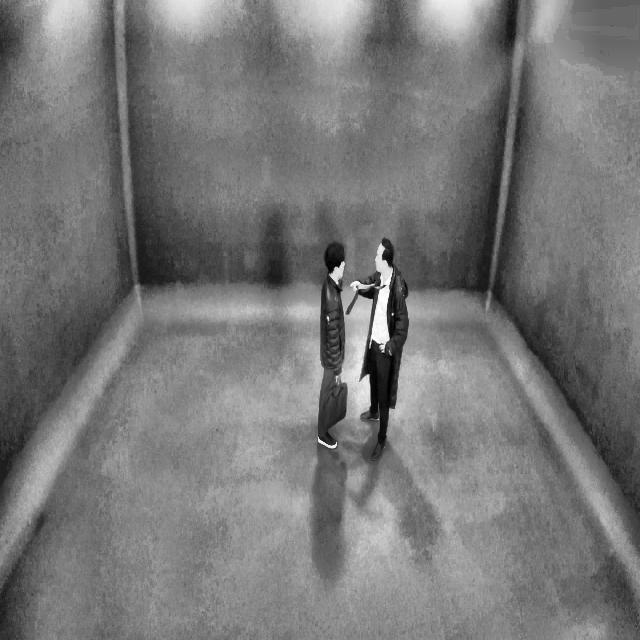assult: (317, 233, 404, 462)
